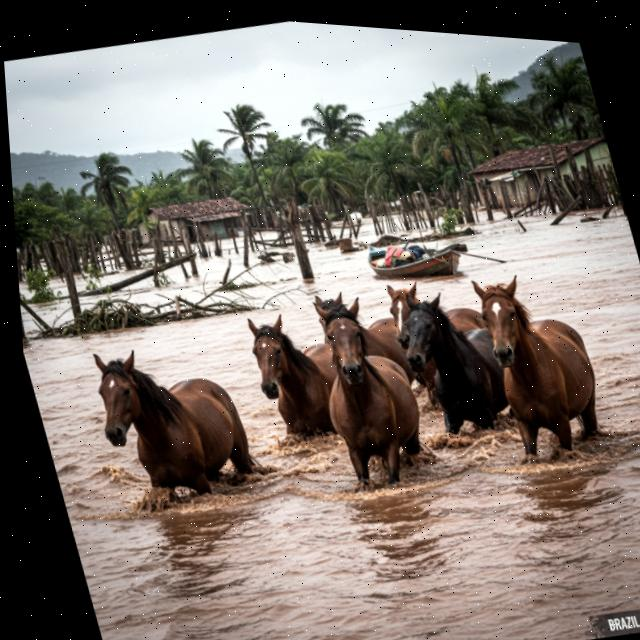horse: (446, 250, 623, 487), (70, 325, 271, 530), (290, 291, 449, 506), (386, 278, 538, 453), (375, 256, 515, 423), (227, 299, 360, 461), (305, 274, 427, 415)
